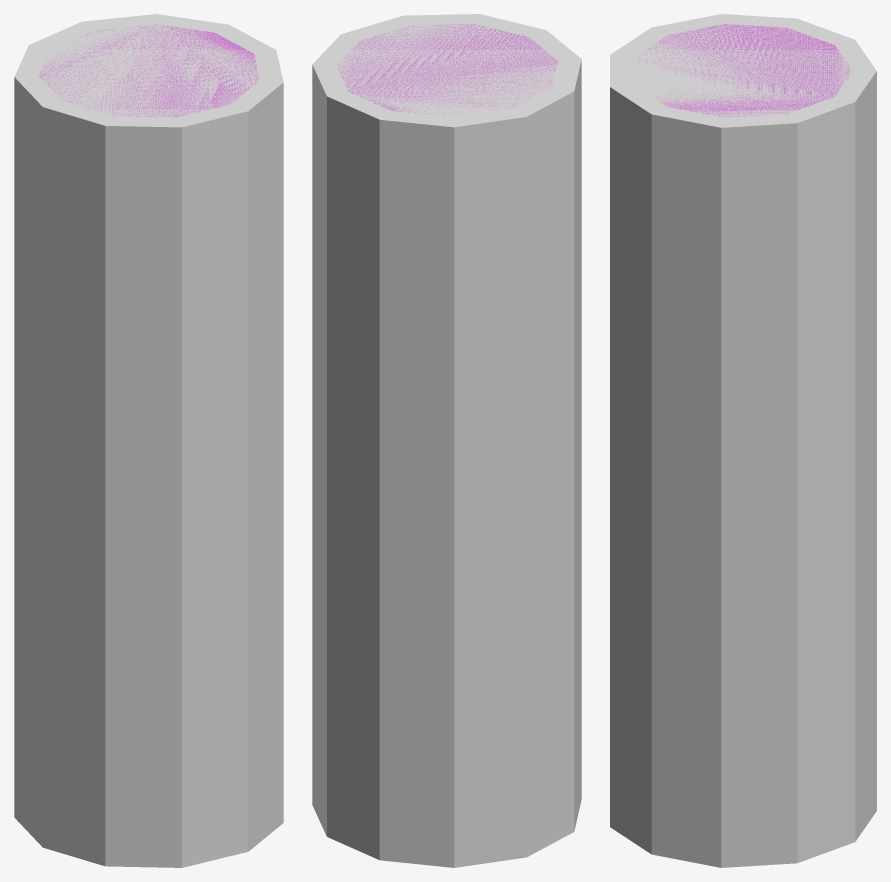
The model's file is greater_angel_cylinder.fbx.
The picture shows the model from 3 angles, left to right: view 1: azimuth 30°, elevation 25°; view 2: azimuth 150°, elevation 25°; view 3: azimuth 270°, elevation 25°; orthographic projection.
Parts seen in each view (by area): view 1: Cylinder, Cylinder.001; view 2: Cylinder, Cylinder.001; view 3: Cylinder, Cylinder.001.
Part boxes in pixels (x1,y1,x2,y2): Cylinder: (14, 14, 283, 867); Cylinder.001: (38, 24, 258, 117); Cylinder: (312, 14, 581, 867); Cylinder.001: (337, 23, 557, 115); Cylinder: (610, 14, 876, 867); Cylinder.001: (633, 24, 851, 117).
Bounding box in the file's own units: 594 × 1800 × 588.
